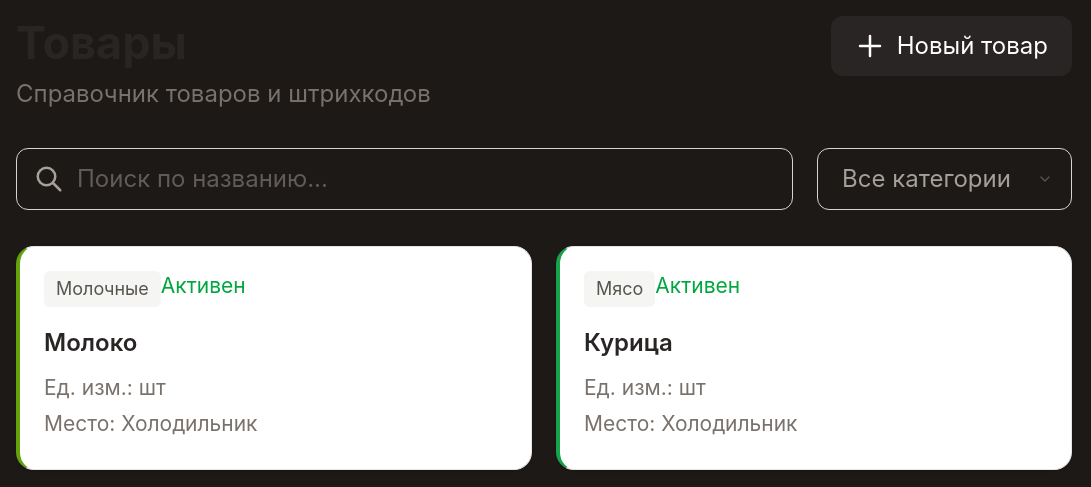
Test: ProductsPage › filters by category
The image size is (1091, 487).
expect the heading "Молоко" is shown: met, box [44,325,137,361]
expect the heading "Курица" is shown: met, box [584,325,673,361]
Select category filter
Select "Мясо" in the dropdown at (944, 179), box [817,148,1072,210]
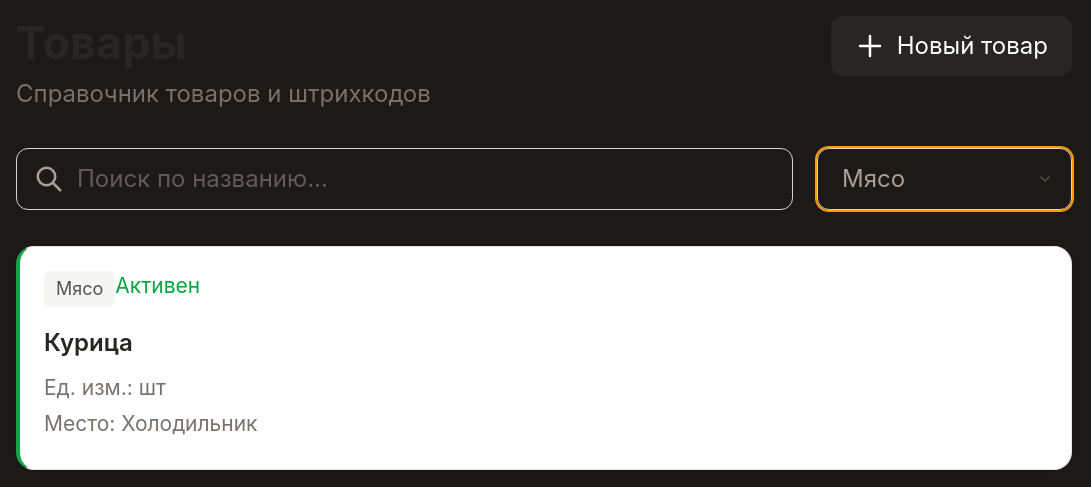
expect the heading "Курица" is shown: met, box [44,325,133,361]
expect the button "Молоко" is gone: met
